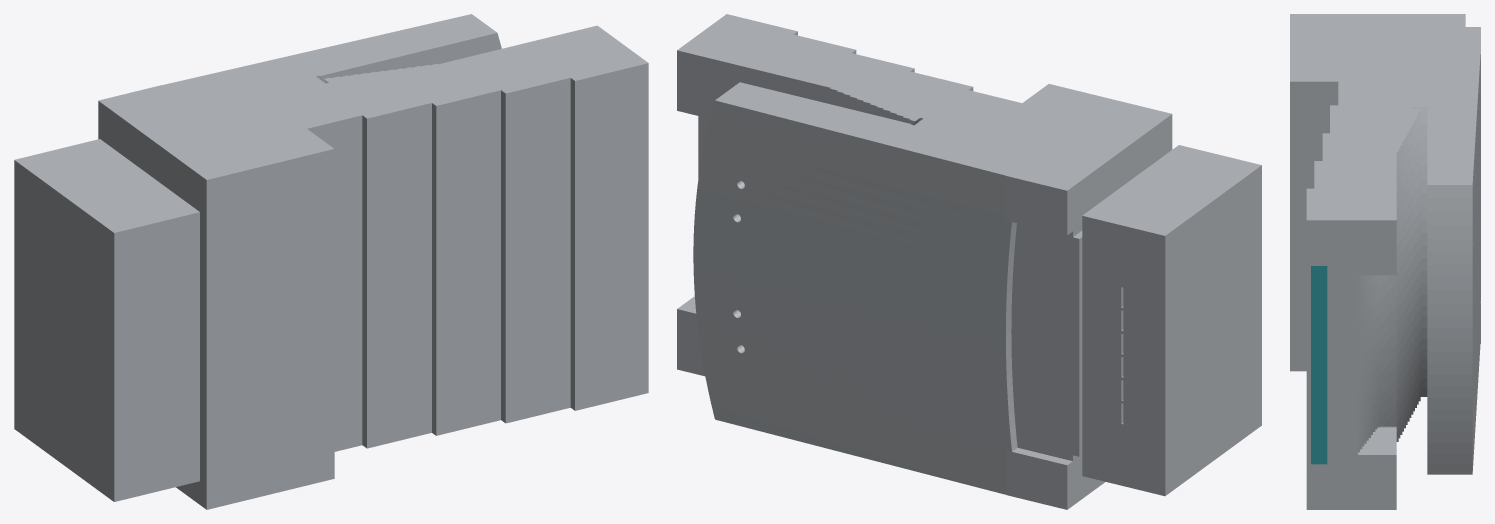
The model's file is modelo.obj.
The picture shows the model from 3 angles, left to right: view 1: azimuth 30°, elevation 25°; view 2: azimuth 150°, elevation 25°; view 3: azimuth 270°, elevation 25°; orthographic projection. The views are drawn at different scales.
Parts seen in each view (by area): view 1: material_108, material_115, material_114, material_109; view 2: material_113, material_115, material_111, material_112, material_110, material_114, material_109, material_107; view 3: material_115, material_114, material_107, material_108, material_201, material_109, material_113, material_110, material_112.
Boxes of the visible parts, bbox=[...] form: material_108: bbox=[114, 33, 648, 509]; material_115: bbox=[14, 14, 648, 501]; material_114: bbox=[14, 111, 209, 427]; material_109: bbox=[104, 75, 328, 509]; material_113: bbox=[698, 116, 993, 472]; material_115: bbox=[677, 14, 1261, 495]; material_111: bbox=[1011, 216, 1165, 496]; material_112: bbox=[693, 88, 1005, 494]; material_110: bbox=[677, 50, 1072, 509]; material_114: bbox=[1049, 135, 1217, 456]; material_109: bbox=[913, 114, 1172, 505]; material_107: bbox=[733, 180, 1123, 451]; material_115: bbox=[1290, 14, 1480, 509]; material_114: bbox=[1371, 17, 1472, 474]; material_107: bbox=[1358, 111, 1473, 452]; material_108: bbox=[1290, 81, 1338, 371]; material_201: bbox=[1311, 266, 1327, 464]; material_109: bbox=[1411, 107, 1428, 396]; material_113: bbox=[1472, 79, 1480, 455]; material_110: bbox=[1358, 72, 1480, 454]; material_112: bbox=[1472, 54, 1480, 470].
Bounding box in the file's own units: 40.25 × 23.33 × 13.92.
